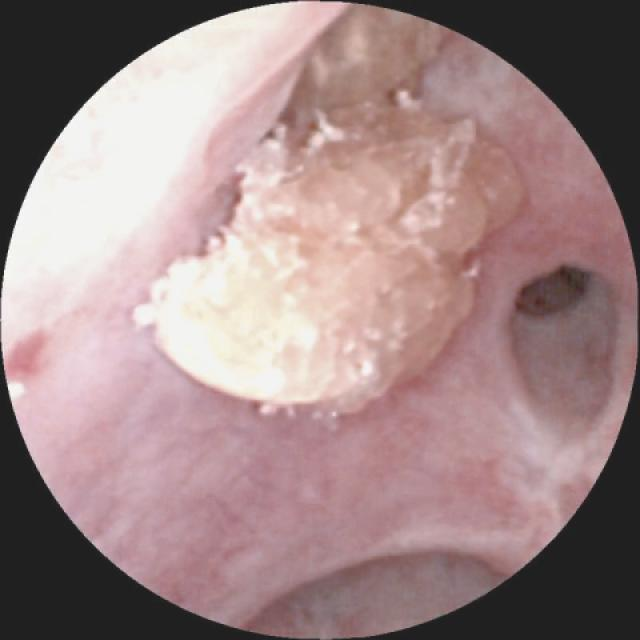stone: (137, 10, 525, 417)
tissue: (11, 6, 625, 626)
